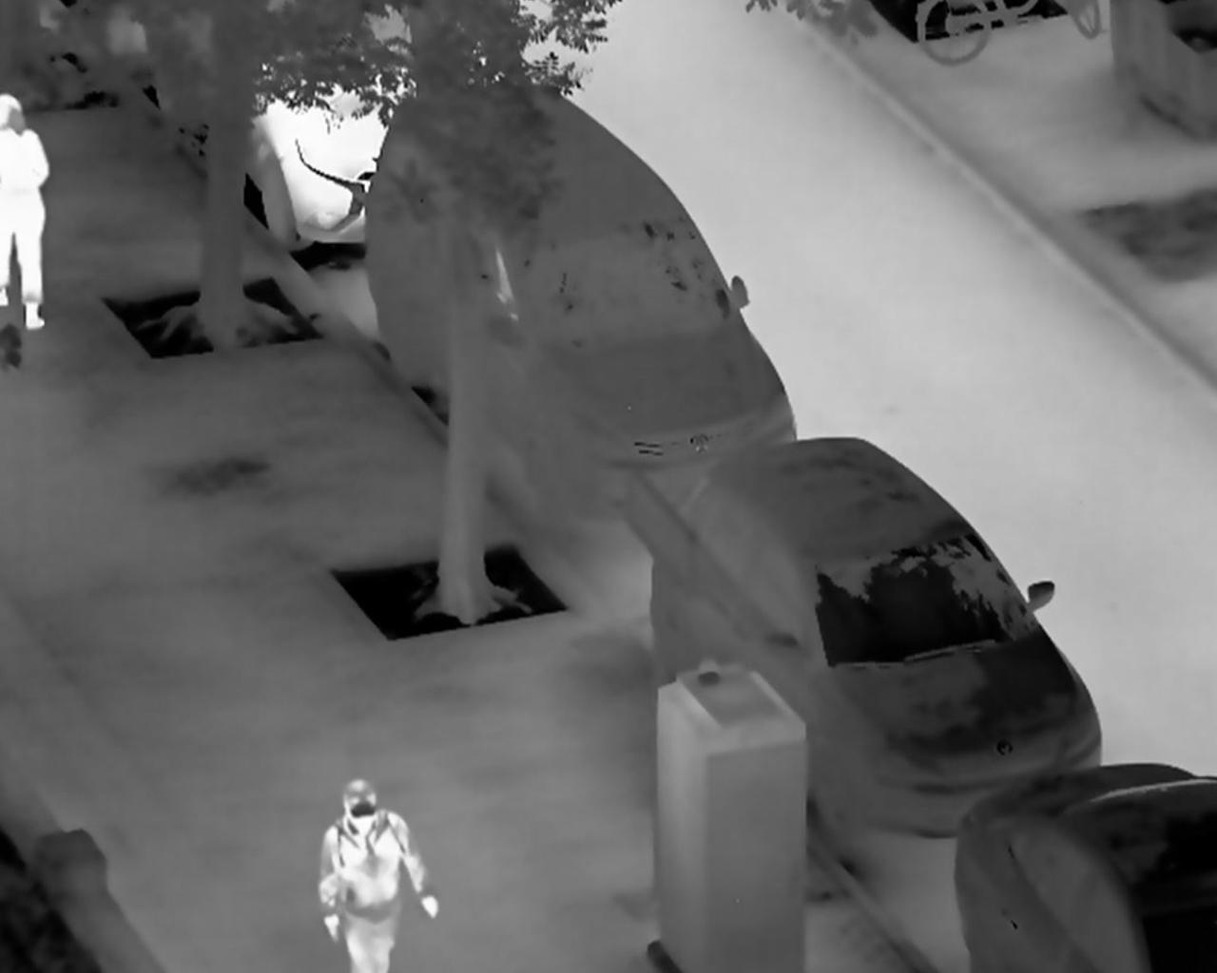person: (319, 775, 442, 973)
